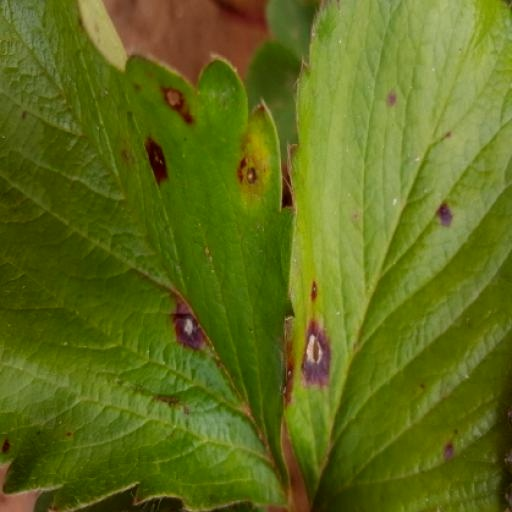Leaf Spot: (218, 0, 511, 511)
